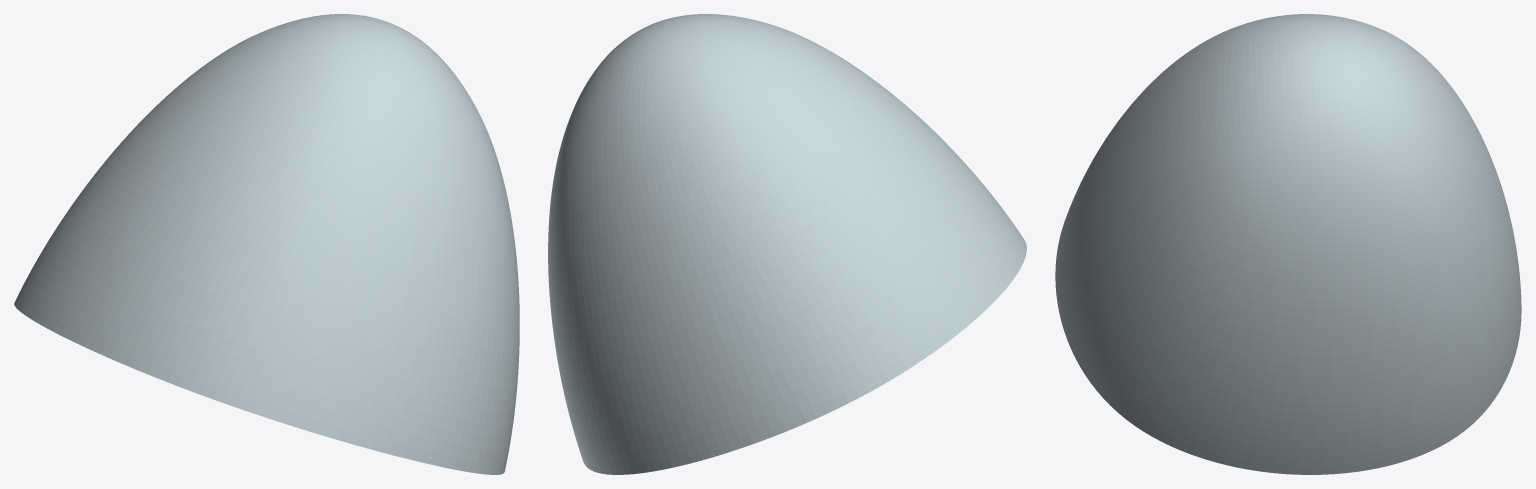
File: egg.fbx
The picture shows the model from 3 angles, left to right: view 1: azimuth 30°, elevation 25°; view 2: azimuth 150°, elevation 25°; view 3: azimuth 270°, elevation 25°; orthographic projection. The views are drawn at different scales.
Parts seen in each view (by area): view 1: egg; view 2: egg; view 3: egg.
Part boxes in pixels (x1,y1,x2,y2): egg: (14, 14, 519, 474); egg: (548, 14, 1026, 474); egg: (1055, 14, 1521, 474).
Size of the model in its own units: 38.19 by 36.65 by 38.81.
